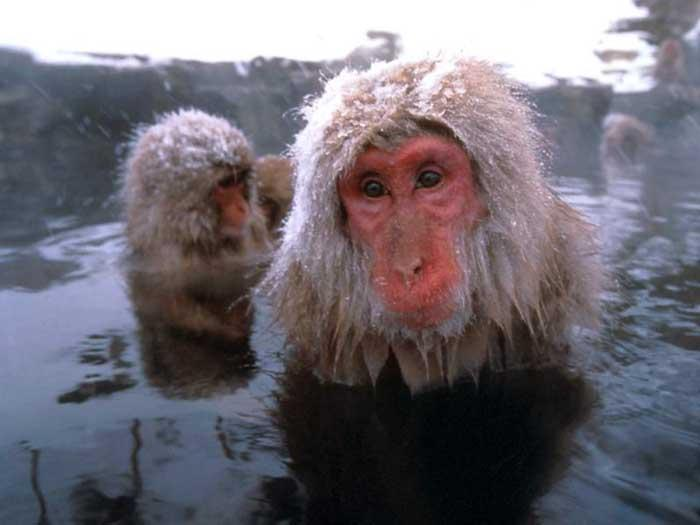monkey: (255, 72, 608, 397)
